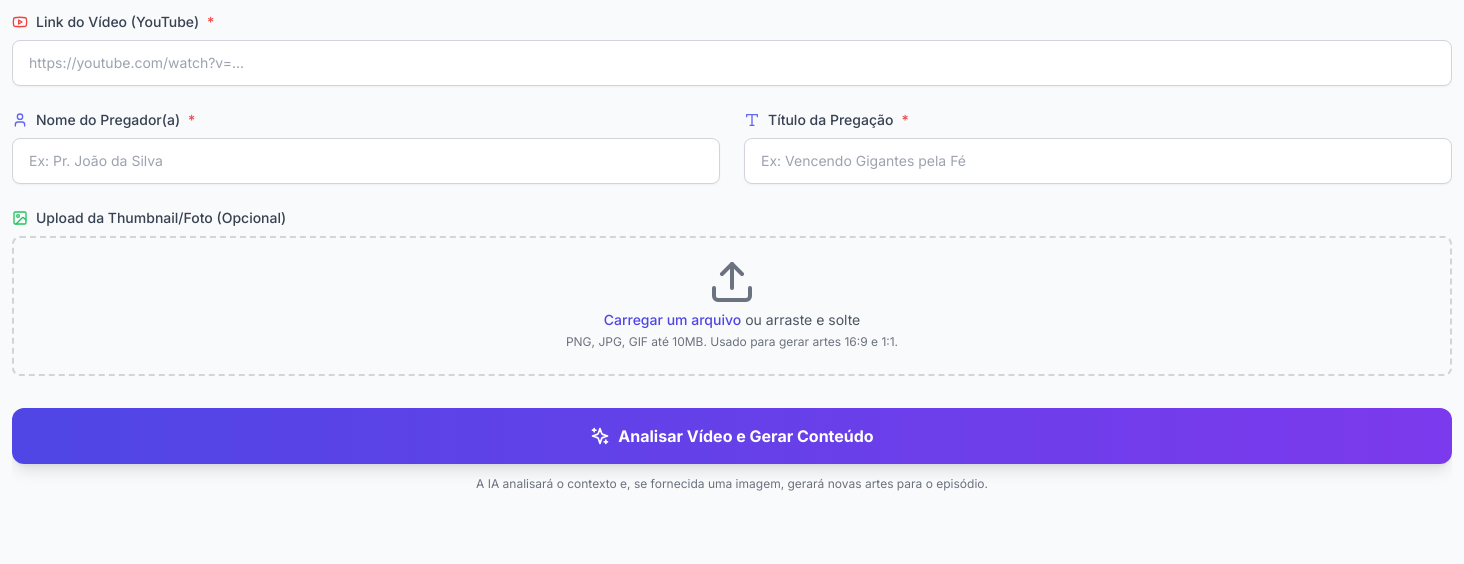
Scenario: SermonForm › inline form validation › clears error when user starts typing in a field
The image size is (1464, 564).
Trigger validation
Click the button "Analisar Vídeo e Gerar Conteúdo" at (732, 436), box x1=12 y1=408 x2=1452 y2=464
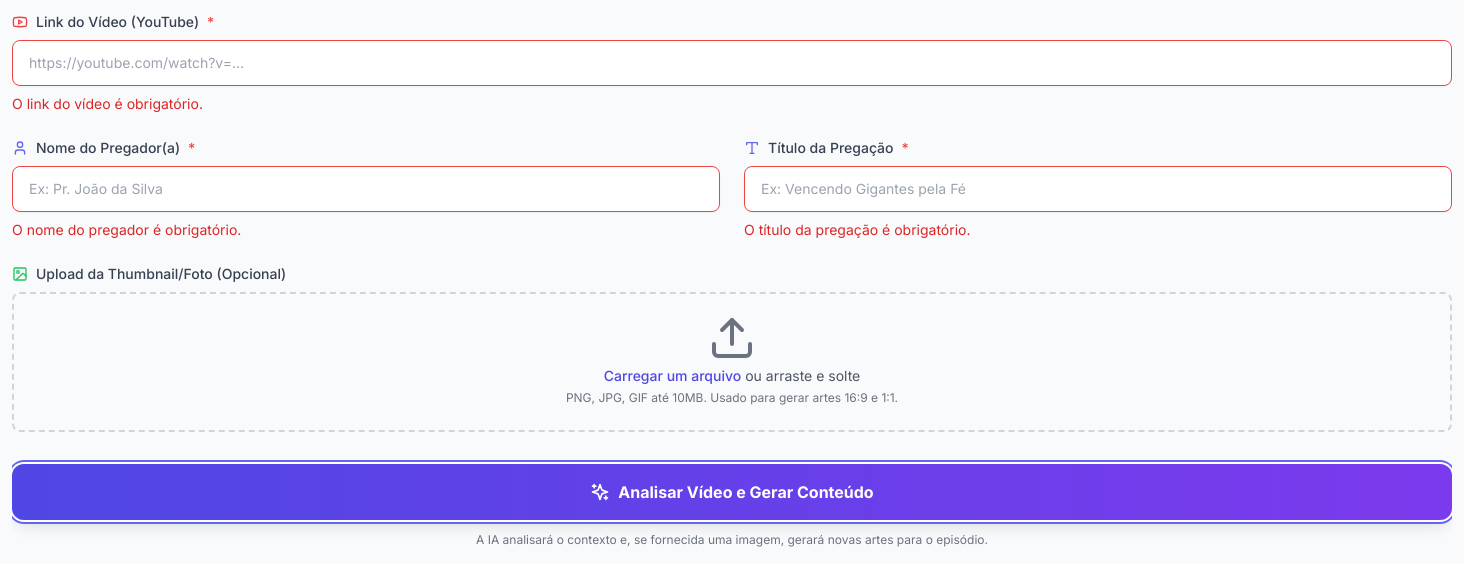
Now the text "O link do vídeo é obrigatório." is shown, box x1=12 y1=95 x2=203 y2=112
Type in the URL field
Type "h" into the field labelled "Link do Vídeo (YouTube) *" at (732, 63), box x1=12 y1=40 x2=1452 y2=86
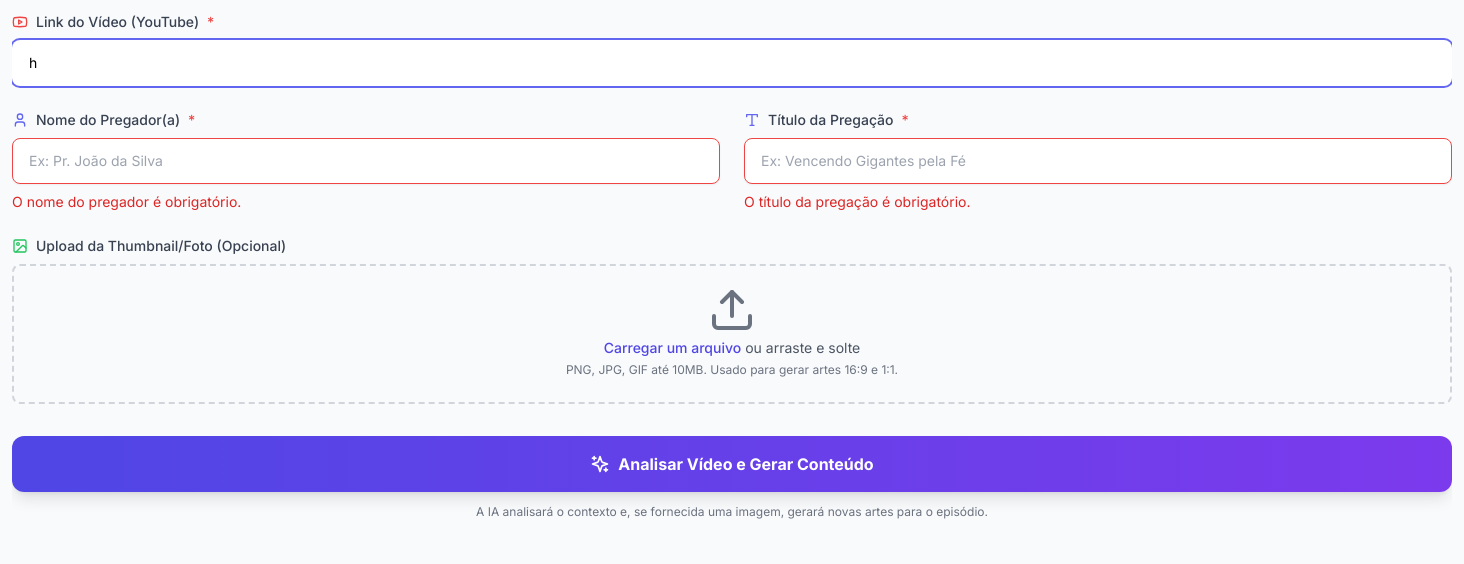
Now the text "O link do vídeo é obrigatório." is gone
